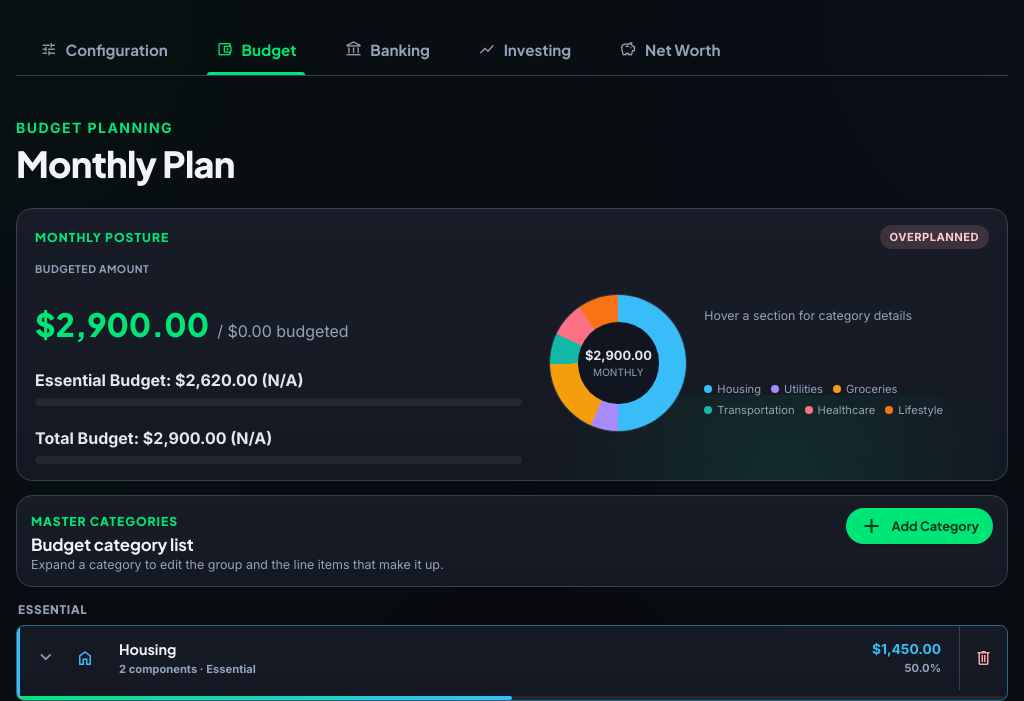
it: LandingPage › shows the Net Worth top-level tab
The width and height of the screenshot is (1024, 701).
Click the tab "Net Worth" at (670, 50), box [595,24,744,75]
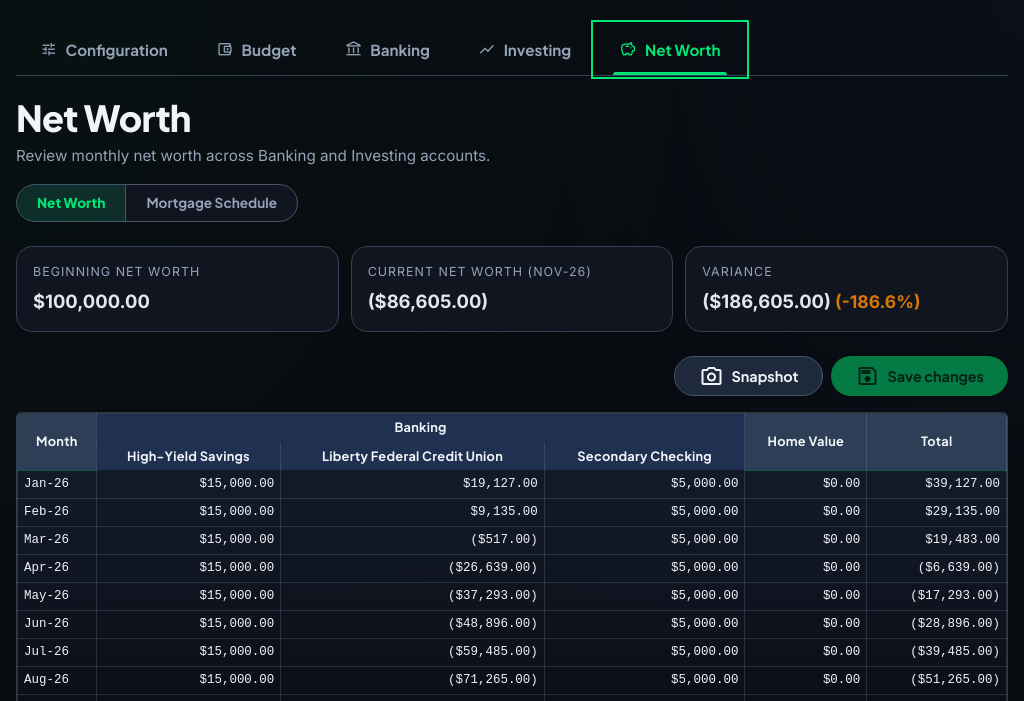
Now the heading "Net Worth" is shown, box [16,95,191,140]
